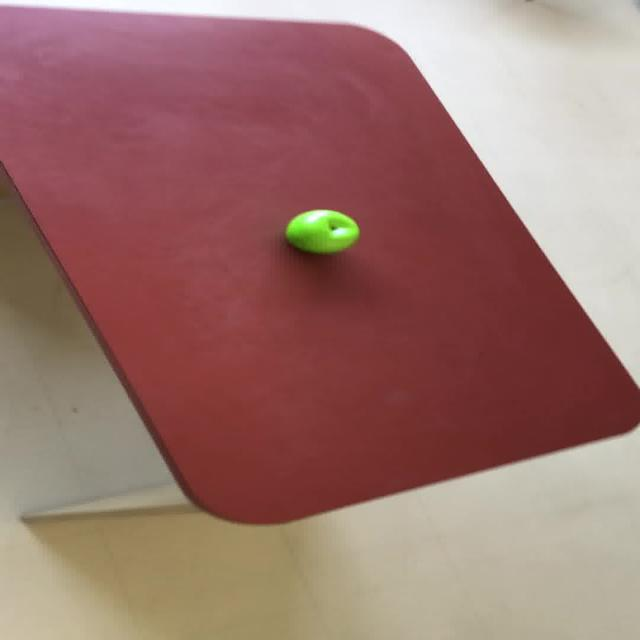apple: (283, 209, 359, 254)
